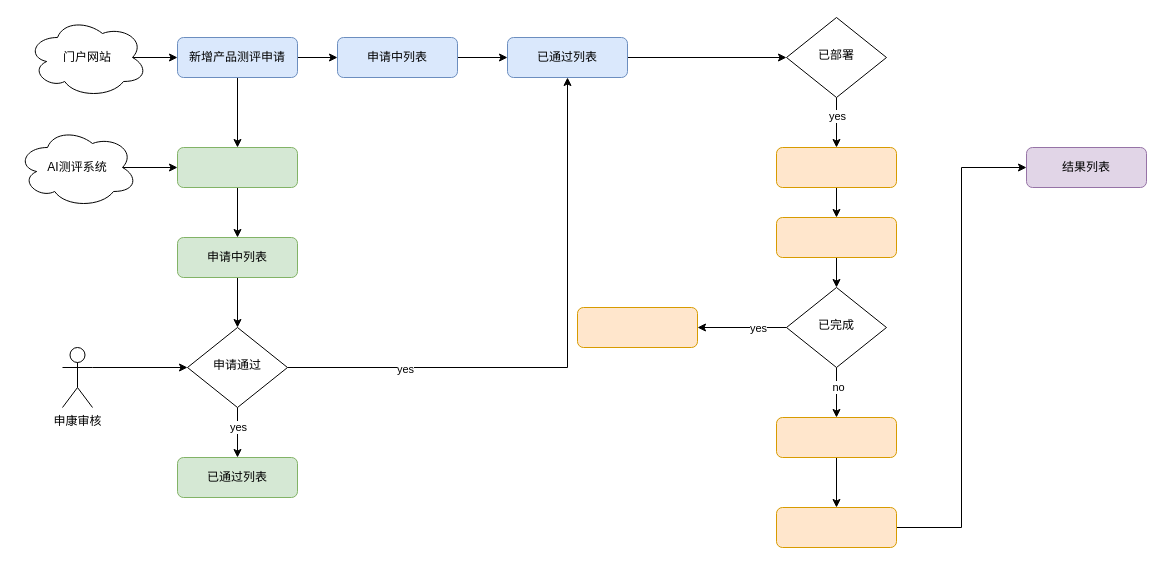
Image size: 1164x565. Some labels were removed from this diagram. The centre of each missing label's shape, as x and y in pixels:
产品测评任务管理: [836,167]
产品测评列表 创建测评任务: [836,237]
产品测评申请管理: [237,167]
发布结果: [836,527]
已完成列表: [637,327]
未完成列表 任务结果录入: [836,437]
